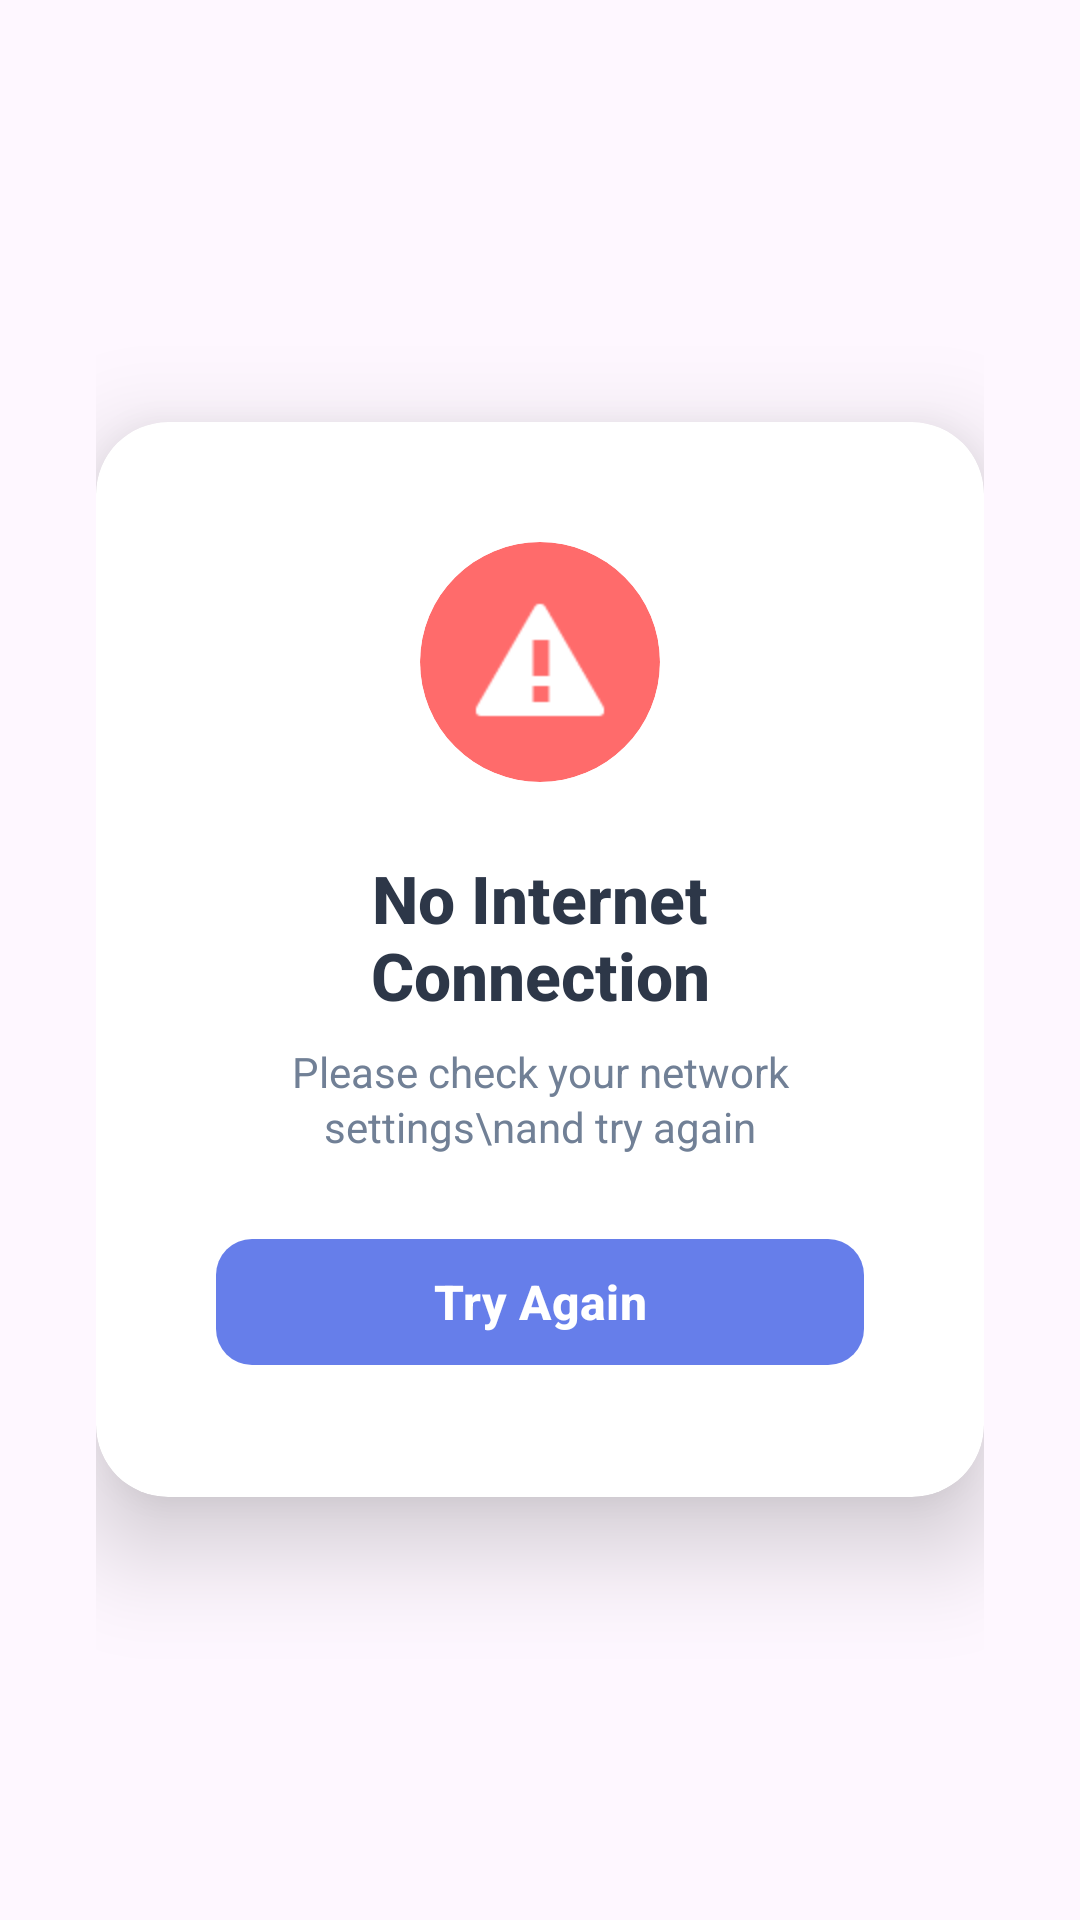

Where to tap for icons on this 1080*1920 app screen, as [x,y]:
error: [540,660]
